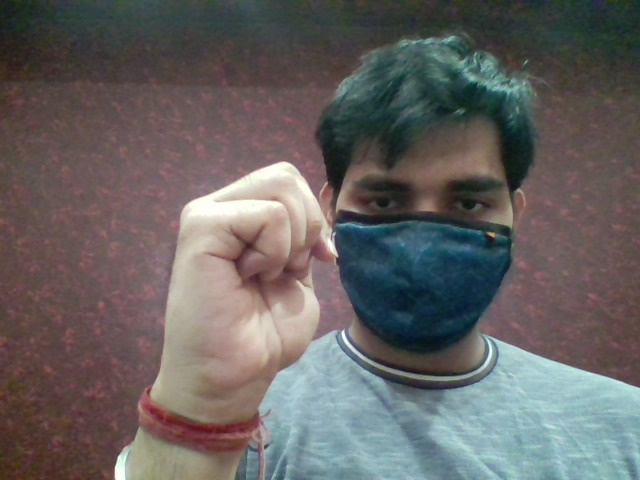m: (153, 152, 341, 389)
